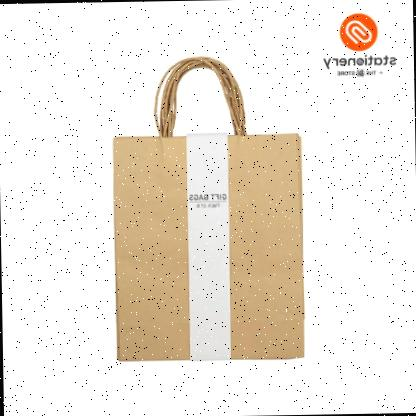bag: (101, 51, 312, 369)
